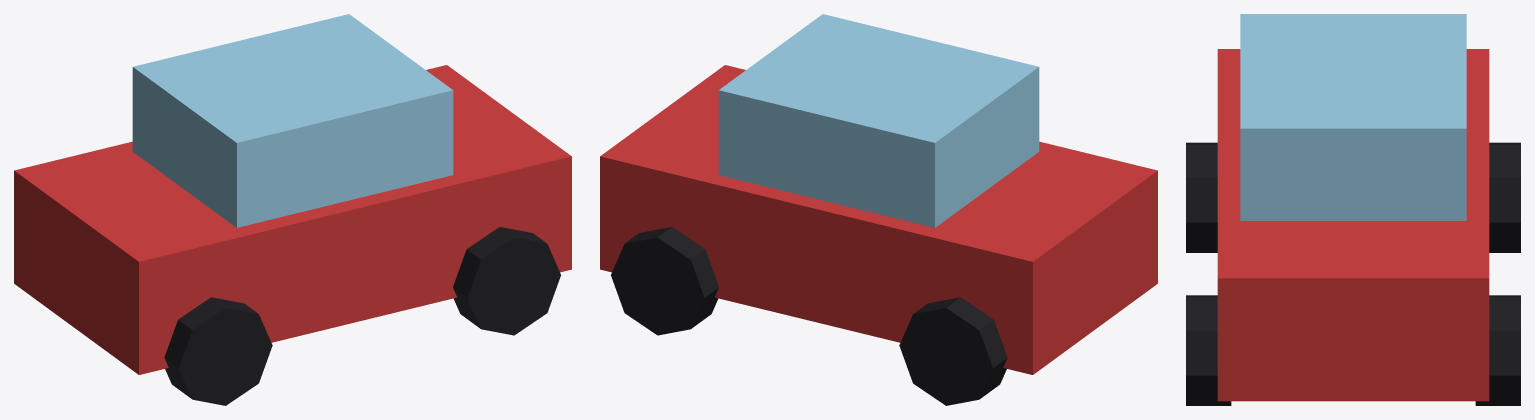
Rendered from toy_car.glb.
The picture shows the model from 3 angles, left to right: view 1: azimuth 30°, elevation 25°; view 2: azimuth 150°, elevation 25°; view 3: azimuth 270°, elevation 25°; orthographic projection. The views are drawn at different scales.
Parts seen in each view (by area): view 1: body_toy_car_d23a3a, cabin_toy_glass, wheels_toy_wheel; view 2: body_toy_car_d23a3a, cabin_toy_glass, wheels_toy_wheel; view 3: body_toy_car_d23a3a, cabin_toy_glass, wheels_toy_wheel.
Boxes of the visible parts, x1=… form: body_toy_car_d23a3a: x1=14, y1=65, x2=571, y2=374; cabin_toy_glass: x1=132, y1=14, x2=453, y2=227; wheels_toy_wheel: x1=164, y1=227, x2=560, y2=405; body_toy_car_d23a3a: x1=600, y1=65, x2=1157, y2=374; cabin_toy_glass: x1=718, y1=14, x2=1039, y2=227; wheels_toy_wheel: x1=611, y1=227, x2=1007, y2=405; body_toy_car_d23a3a: x1=1217, y1=49, x2=1489, y2=401; cabin_toy_glass: x1=1240, y1=14, x2=1466, y2=220; wheels_toy_wheel: x1=1186, y1=142, x2=1520, y2=405.
Bounding box in the file's own units: 0.12 × 0.0625 × 0.074.
